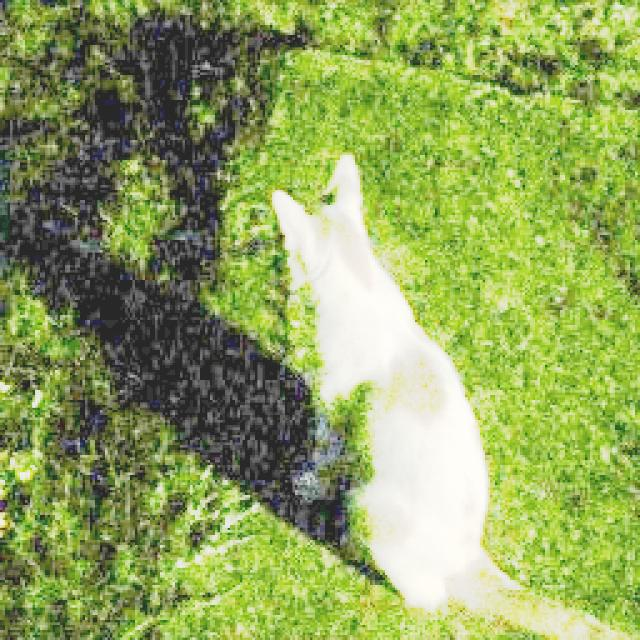cat: (229, 141, 541, 618)
